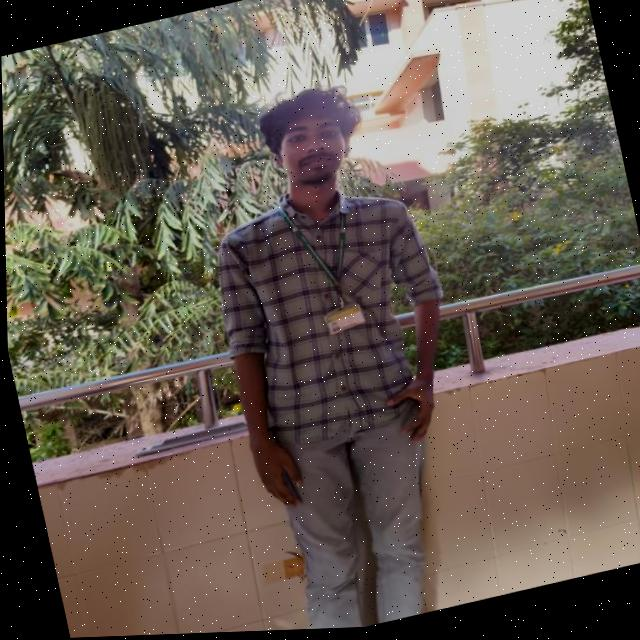id_card: (280, 194, 373, 346)
